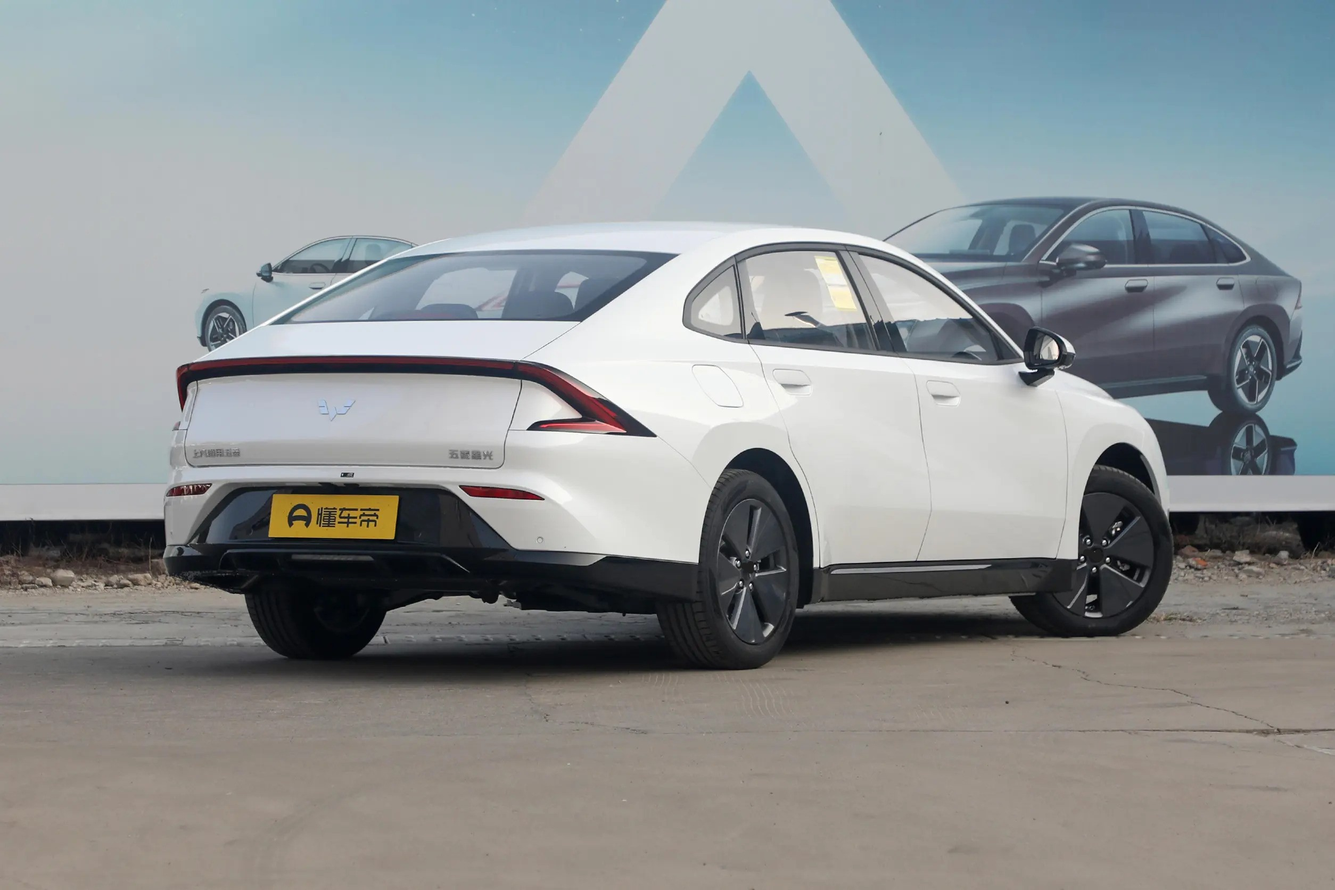SGMW: (318, 400, 355, 420)
